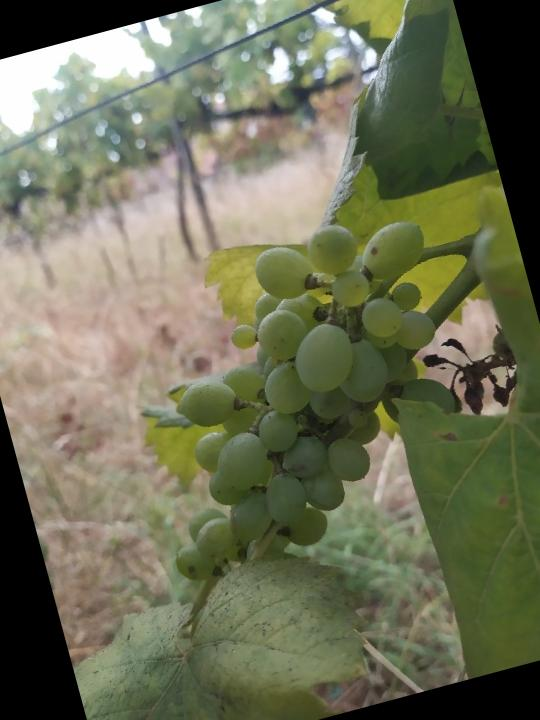grape: (98, 198, 500, 591)
